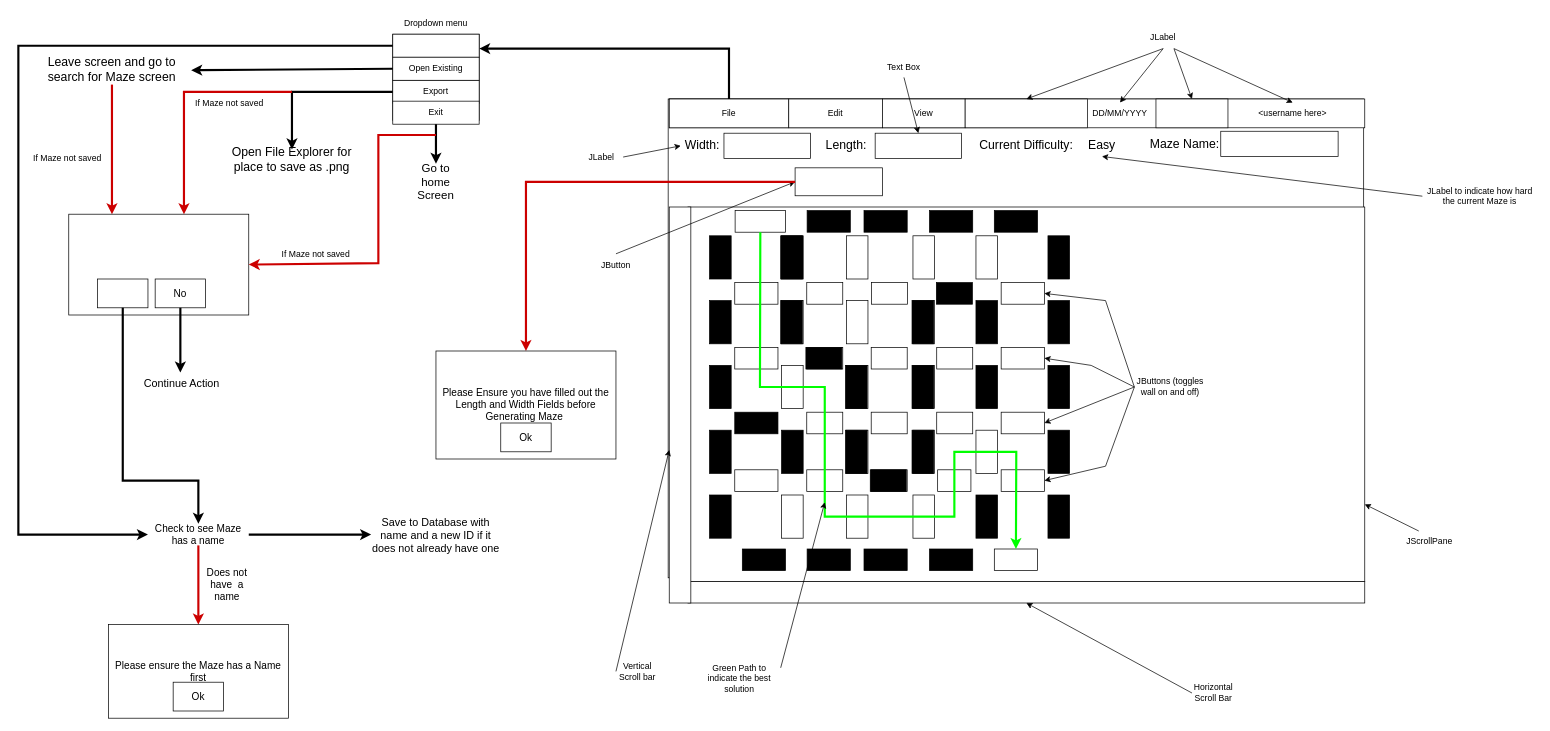
This 1550x731 diagram has some shape labels left out. Here are the shapes that lost their labels. From the top down, the box of each, then its label:
(392, 33, 479, 57): Save
(964, 98, 1088, 128): Last Edited on:
(1155, 98, 1228, 128): Last Edited By
(794, 167, 882, 196): Generate Maze
(68, 213, 249, 315): There are unsaved changes. Do you want to Save first?
(97, 278, 148, 308): Yes
